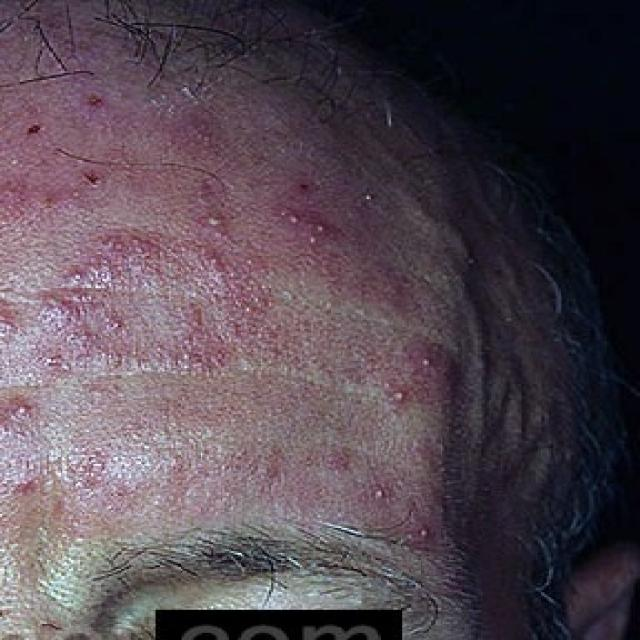Rosacea: (38, 127, 425, 441)
